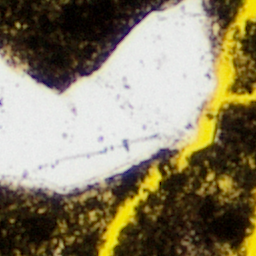cement_matrix: (0, 103, 255, 255), (0, 0, 183, 92), (202, 0, 241, 55), (235, 21, 255, 91), (217, 177, 232, 192)
cracks: (173, 0, 255, 168), (97, 163, 162, 255), (227, 189, 255, 255)
gravel_crushed_stones: (0, 0, 217, 190), (218, 178, 231, 191)
